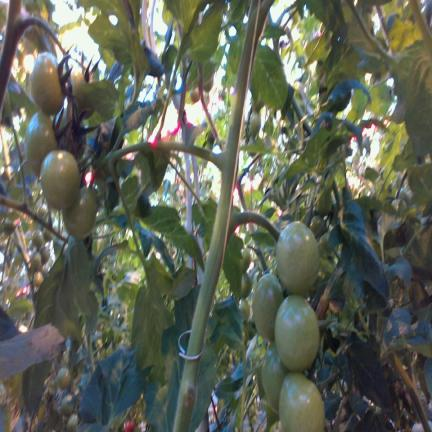6kp_peduncle: (208, 174, 280, 266), (1, 0, 64, 72)
6kp_petiole: (185, 115, 243, 209)
MainStem: (173, 0, 274, 432), (0, 0, 22, 118)
tomato: (275, 294, 320, 371), (276, 222, 319, 295), (279, 372, 324, 431), (40, 150, 80, 209), (252, 274, 284, 340), (29, 52, 63, 114), (25, 110, 57, 175), (261, 342, 288, 413), (63, 187, 97, 239), (70, 66, 85, 98), (60, 394, 75, 416), (240, 273, 252, 298), (249, 113, 261, 137), (57, 367, 70, 389), (241, 248, 251, 272), (239, 299, 250, 320), (32, 230, 43, 249), (30, 251, 41, 270), (203, 78, 213, 98), (33, 270, 43, 287), (67, 414, 77, 431), (190, 87, 200, 102), (40, 247, 49, 263)
